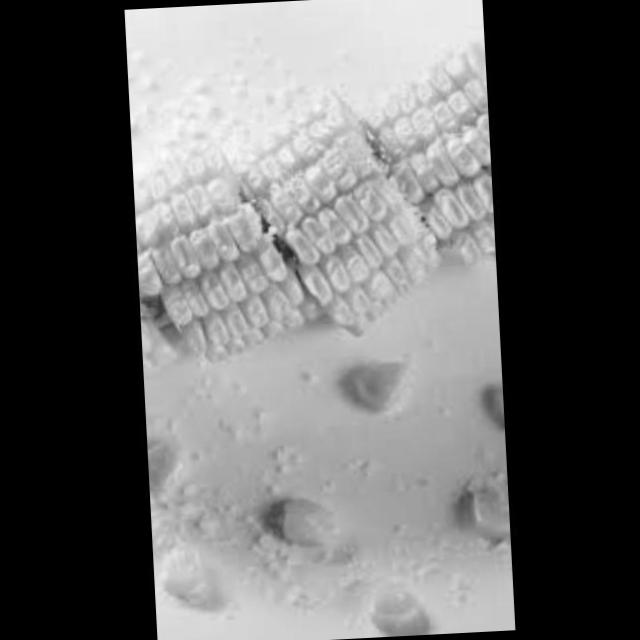ngu coc: (225, 74, 446, 354), (130, 130, 336, 367), (358, 16, 496, 294), (262, 476, 357, 562), (329, 351, 419, 423), (150, 530, 224, 616), (350, 569, 427, 638), (456, 466, 510, 559), (144, 418, 196, 503), (464, 380, 503, 424)
